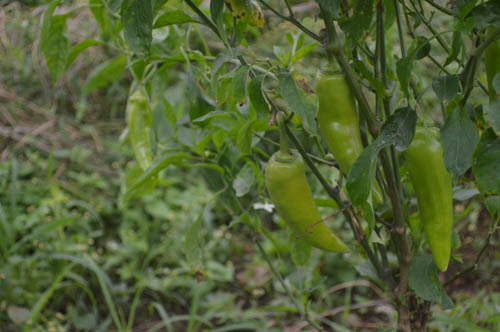ChiliPepper: (317, 73, 384, 206), (272, 152, 349, 254), (410, 126, 449, 273), (129, 92, 151, 171)
